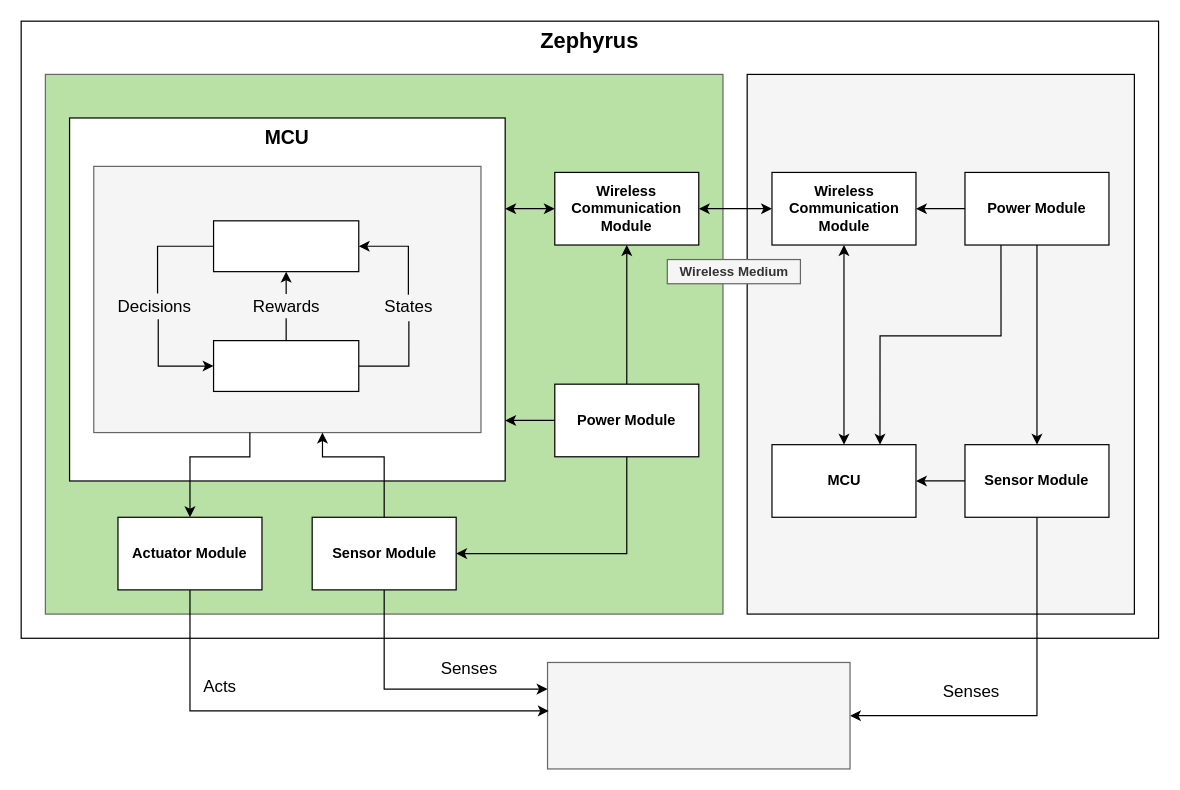
The diagram is 1180 pixels wide and 790 high, and some of its shapes have lost their labels. The box of each missing label's shape, as (x1, y1, x2, y2) in pixels:
Agent: (212, 220, 359, 272)
Critic: (212, 339, 359, 391)
External Environment: (546, 661, 850, 769)
Main Board: (44, 73, 723, 614)
Remote Board: (746, 73, 1134, 614)
RL Model: (93, 165, 481, 433)
